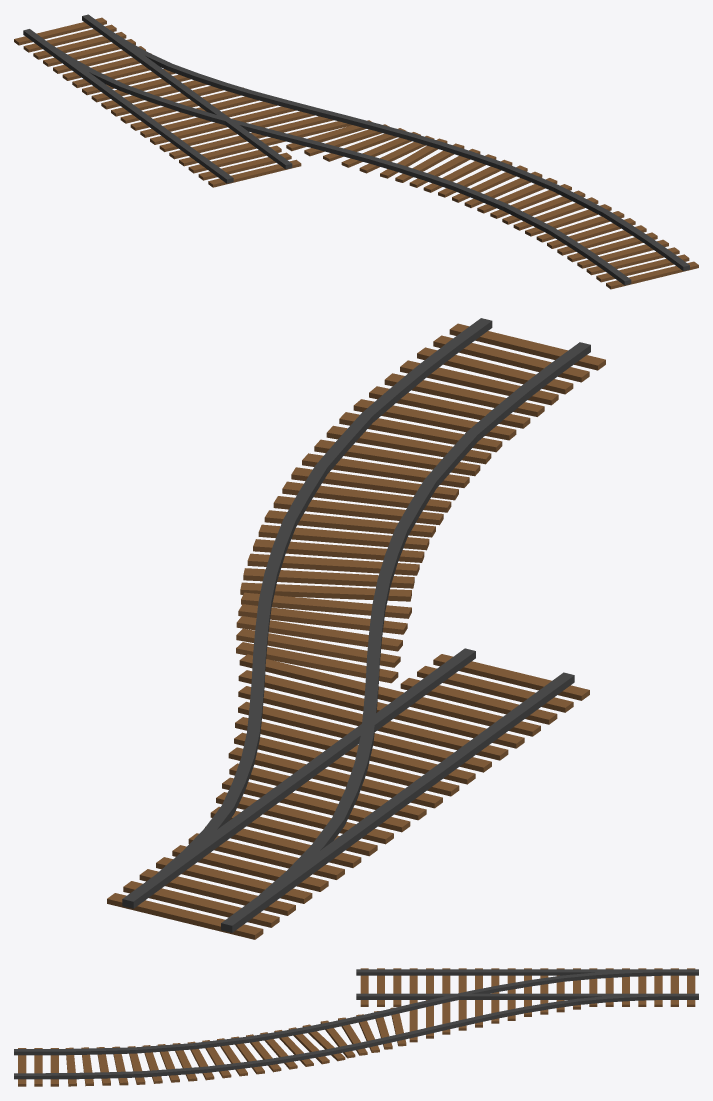
File: Railway_02.fbx
3 views of the same model, one above another, from view 1: azimuth 30°, elevation 25°; view 2: azimuth 150°, elevation 25°; view 3: azimuth 270°, elevation 25° (orthographic). The views are drawn at different scales.
Parts seen in each view (by area): view 1: Railway_02; view 2: Railway_02; view 3: Railway_02.
Part boxes in pixels (<box>): Railway_02: <box>14,14,698,289</box>; Railway_02: <box>107,318,605,939</box>; Railway_02: <box>14,968,698,1086</box>.
Size of the model in its own units: 800 by 19.57 by 2000.
